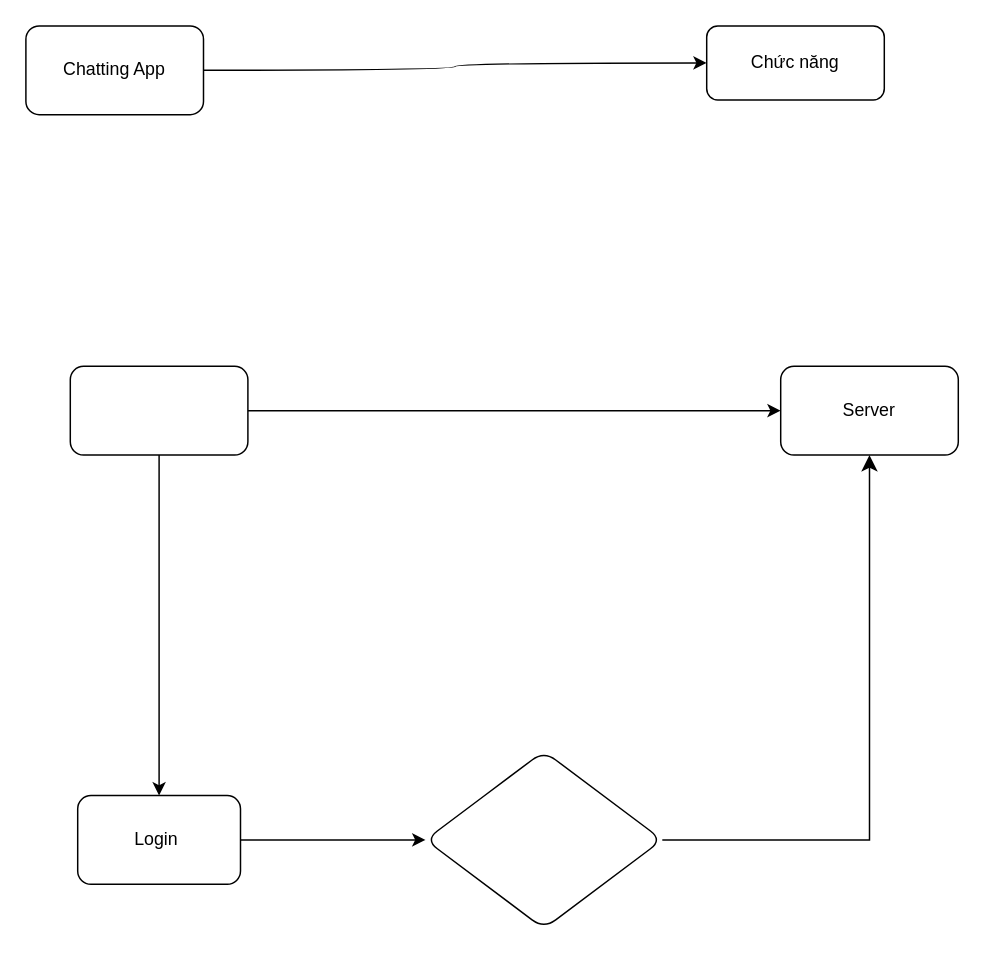
Some shapes in this 984 by 955 pixel diagram are drawn without their labels. Here are the shapes that lost their labels. From the top down, the box of each, then its label:
(69, 365, 248, 455): Client
(424, 750, 662, 929): Validate (username, password)
